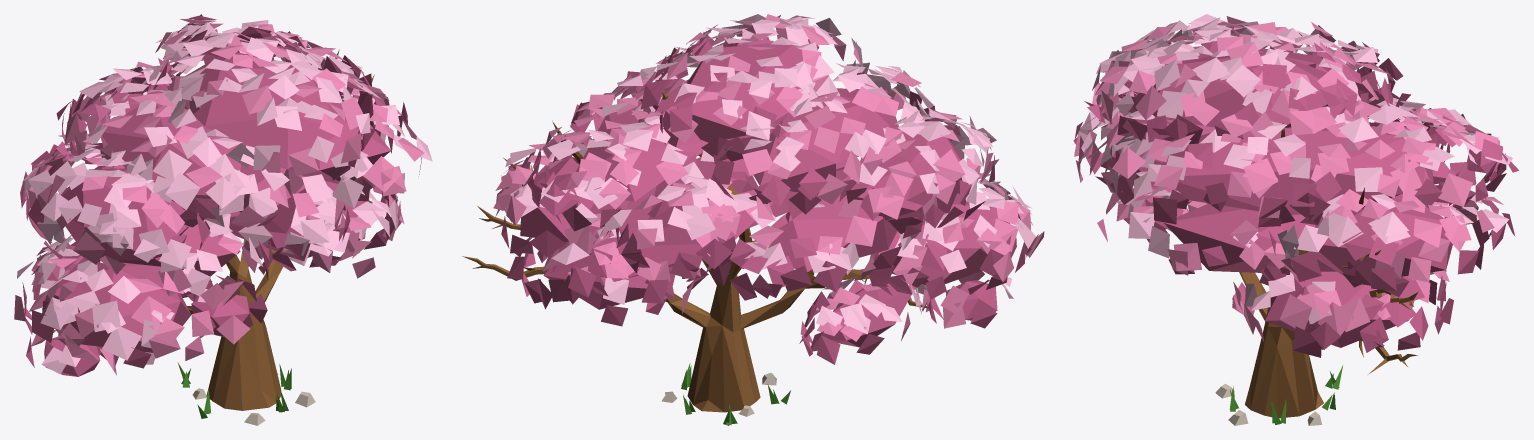
The model's file is cherry_3_bloom.glb.
3 views of the same model, side by side, from view 1: azimuth 30°, elevation 25°; view 2: azimuth 150°, elevation 25°; view 3: azimuth 270°, elevation 25° (orthographic). The views are drawn at different scales.
Parts seen in each view (by area): view 1: cherry_3_bloom; view 2: cherry_3_bloom; view 3: cherry_3_bloom.
Boxes of the visible parts, x1=… form: cherry_3_bloom: x1=14, y1=14, x2=432, y2=425; cherry_3_bloom: x1=462, y1=14, x2=1044, y2=425; cherry_3_bloom: x1=1073, y1=14, x2=1518, y2=425.
Size of the model in its own units: 9.91 by 7.46 by 8.28.
